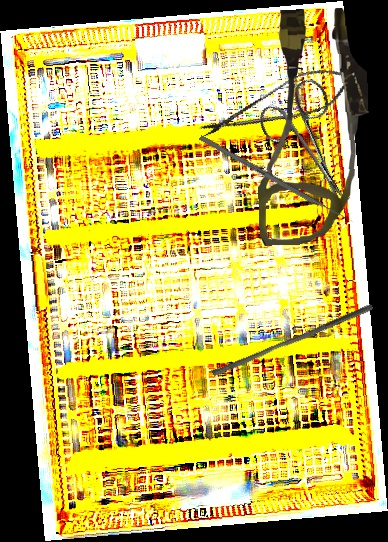Cannula: (251, 7, 374, 246)
Iris Scissors: (251, 74, 378, 223)
Micro Scissor: (192, 54, 367, 154)
Pusher: (198, 134, 355, 226), (211, 297, 374, 383)
